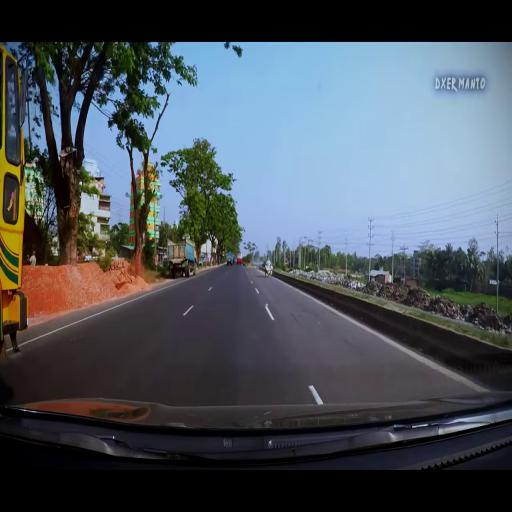bus: (237, 251, 243, 264)
truck: (1, 46, 29, 347), (167, 237, 198, 277), (227, 252, 234, 266)
